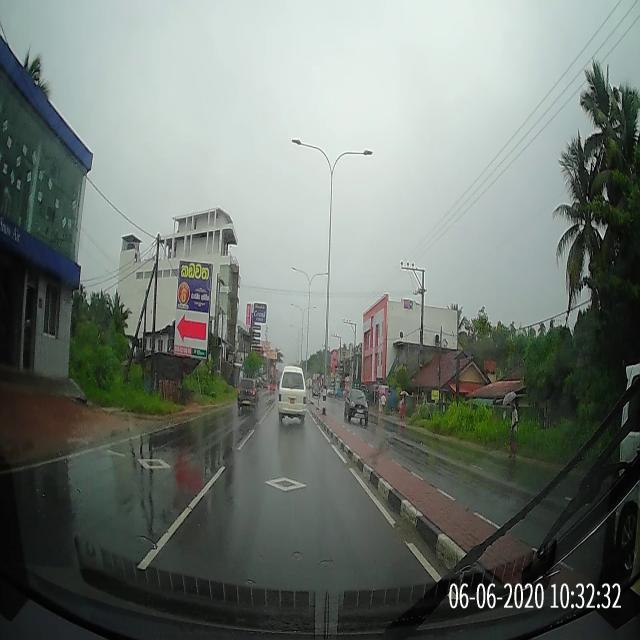diamond: (203, 469, 375, 498)
